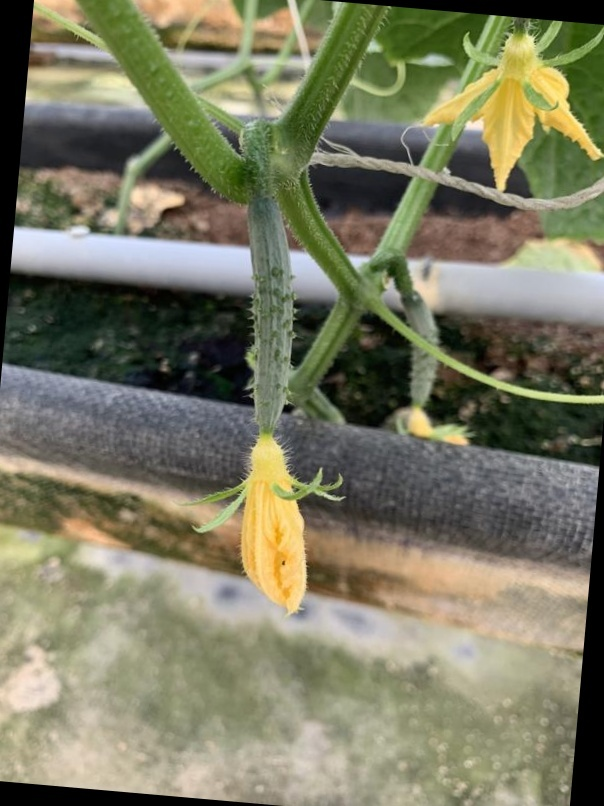bear: (194, 187, 340, 613)
